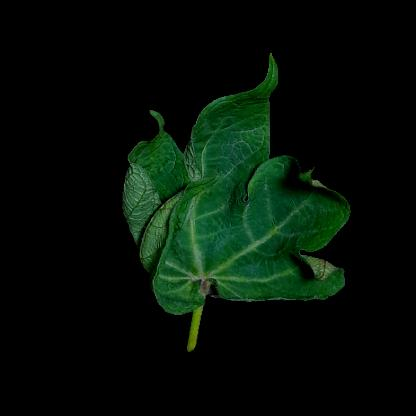curl_stage2: (145, 154, 219, 258), (165, 259, 241, 305), (202, 106, 265, 150), (126, 180, 190, 220), (269, 254, 329, 294)
